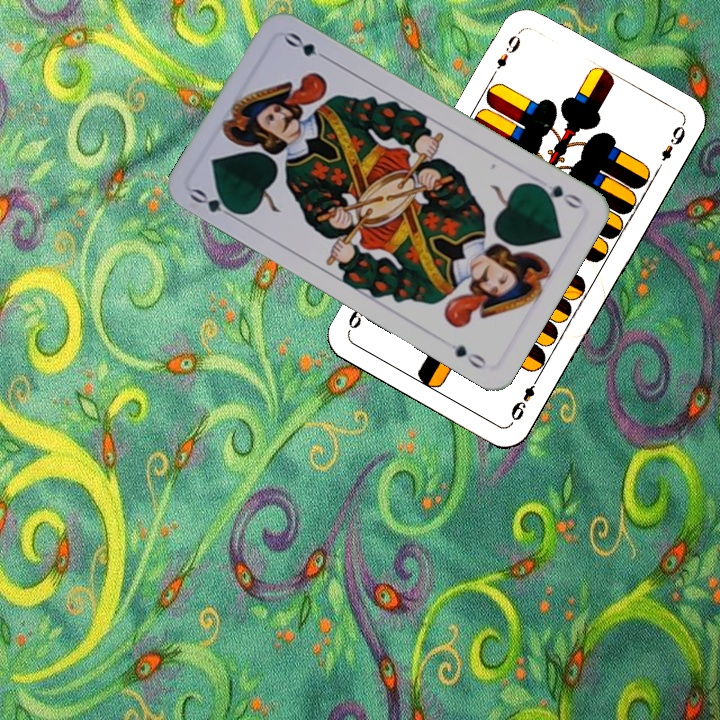E9: (487, 27, 524, 81), (506, 372, 543, 424)
GO: (186, 184, 243, 223), (530, 179, 586, 212)
